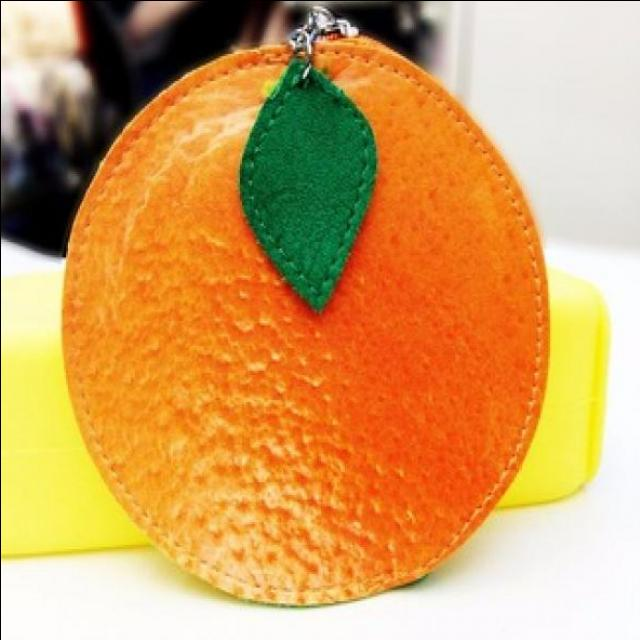orange: (49, 32, 548, 618)
